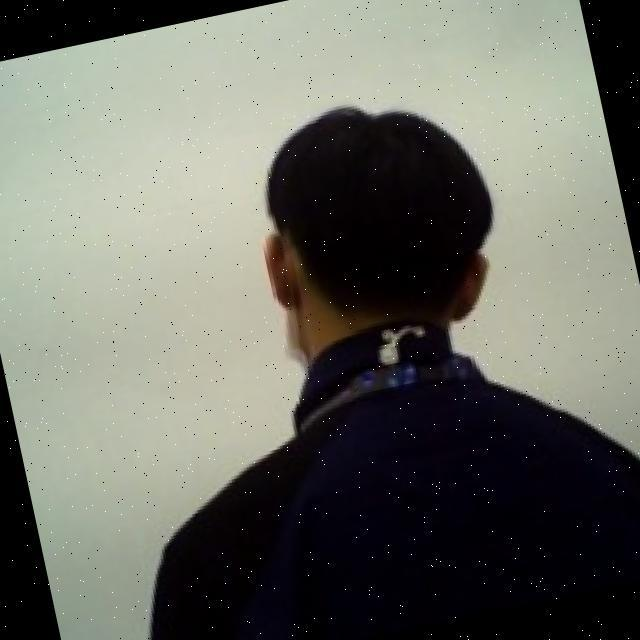no_gloves: (236, 76, 521, 367)
